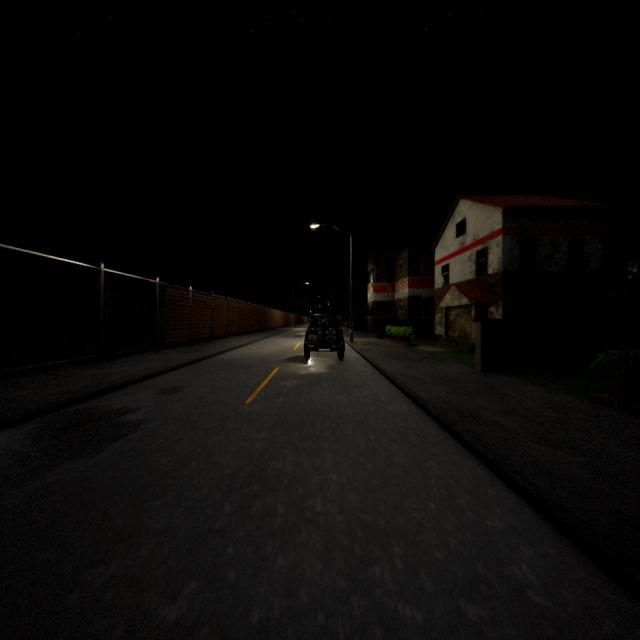Vehicle: (304, 314, 344, 361)
